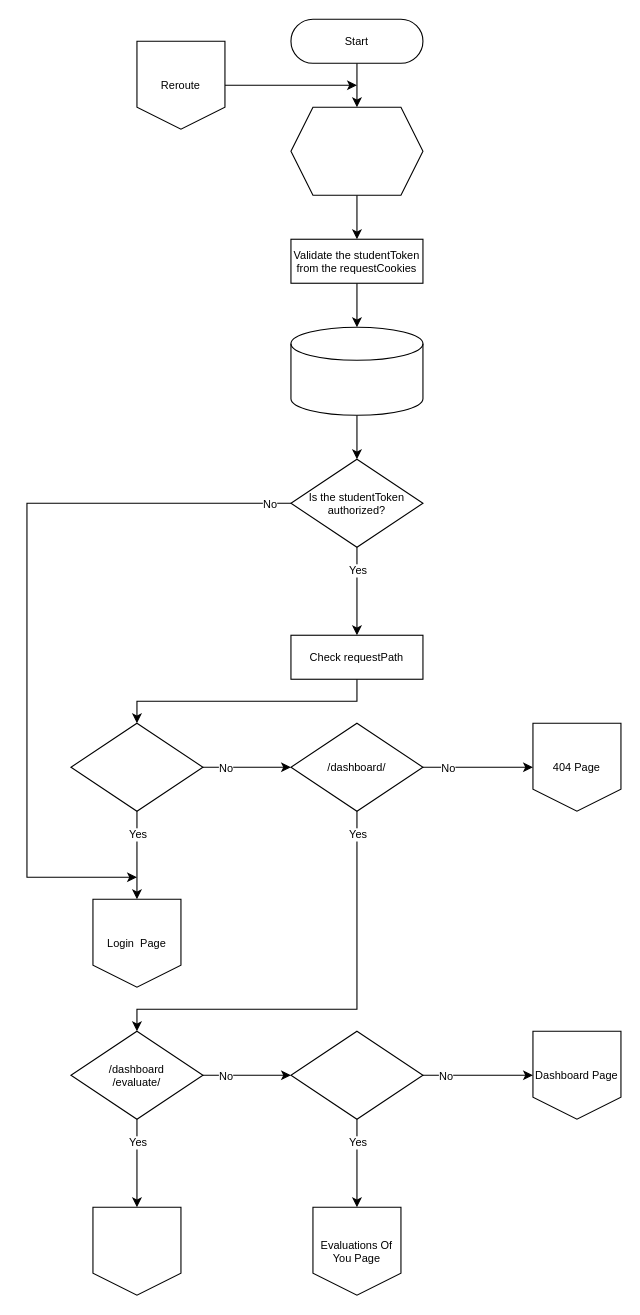
The diagram is 640 pixels wide and 1315 high, and some of its shapes have lost their labels. Here are the shapes that lost their labels. From the top down, the centre of each, then its label:
point 356,150: requestCookies requestPath
point 356,370: Students
point 136,766: /login/
point 356,1074: /dashboard /evaluationsOfYou/
point 136,1250: Evaluation Page
